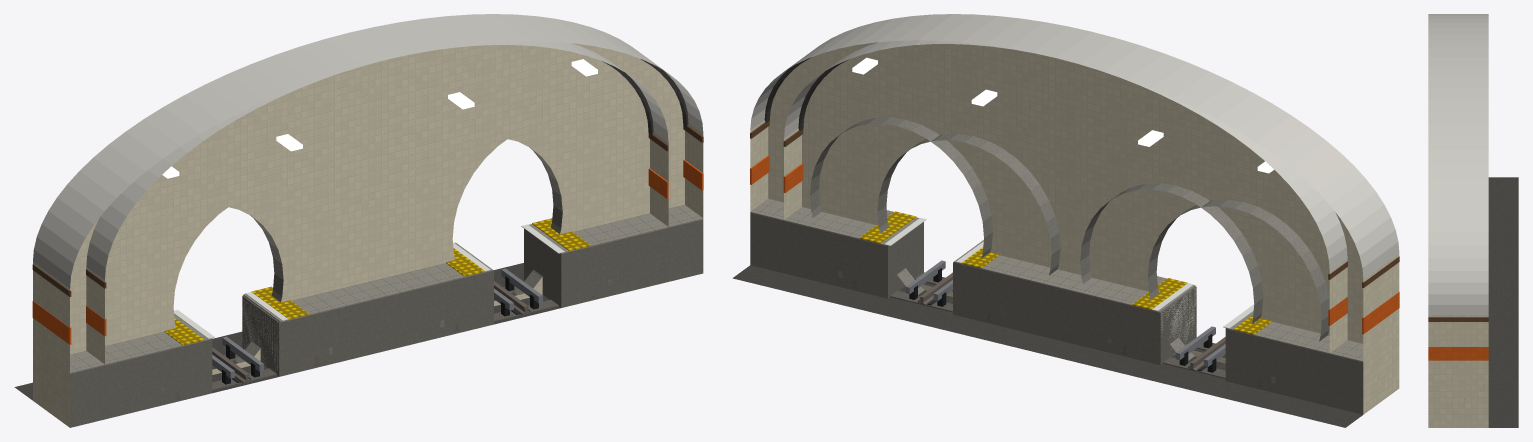
File: tunnel_station_vault.glb
3 renders of one model, left to right at view 1: azimuth 30°, elevation 25°; view 2: azimuth 150°, elevation 25°; view 3: azimuth 270°, elevation 25°, orthographic. The views are drawn at different scales.
Parts seen in each view (by area): view 1: vault_island_end, vault_side, vault_side_end, vault_island; view 2: vault_island_end, vault_side, vault_side_end, vault_island; view 3: vault_side, vault_side_end, vault_island_end.
Boxes of the visible parts, x1,y1,x2,y2 form: vault_island_end: (105, 45, 649, 374); vault_side: (32, 14, 703, 427); vault_side_end: (14, 43, 684, 400); vault_island: (86, 41, 668, 400); vault_island_end: (802, 44, 1329, 419); vault_side: (750, 14, 1399, 414); vault_side_end: (732, 42, 1363, 427); vault_island: (783, 40, 1347, 387); vault_side: (1428, 14, 1488, 427); vault_side_end: (1488, 177, 1518, 427); vault_island_end: (1488, 191, 1518, 413).
Size of the model in its own units: 11.81 by 5.47 by 1.8.
Materials: 18 (11 with a texture image).
